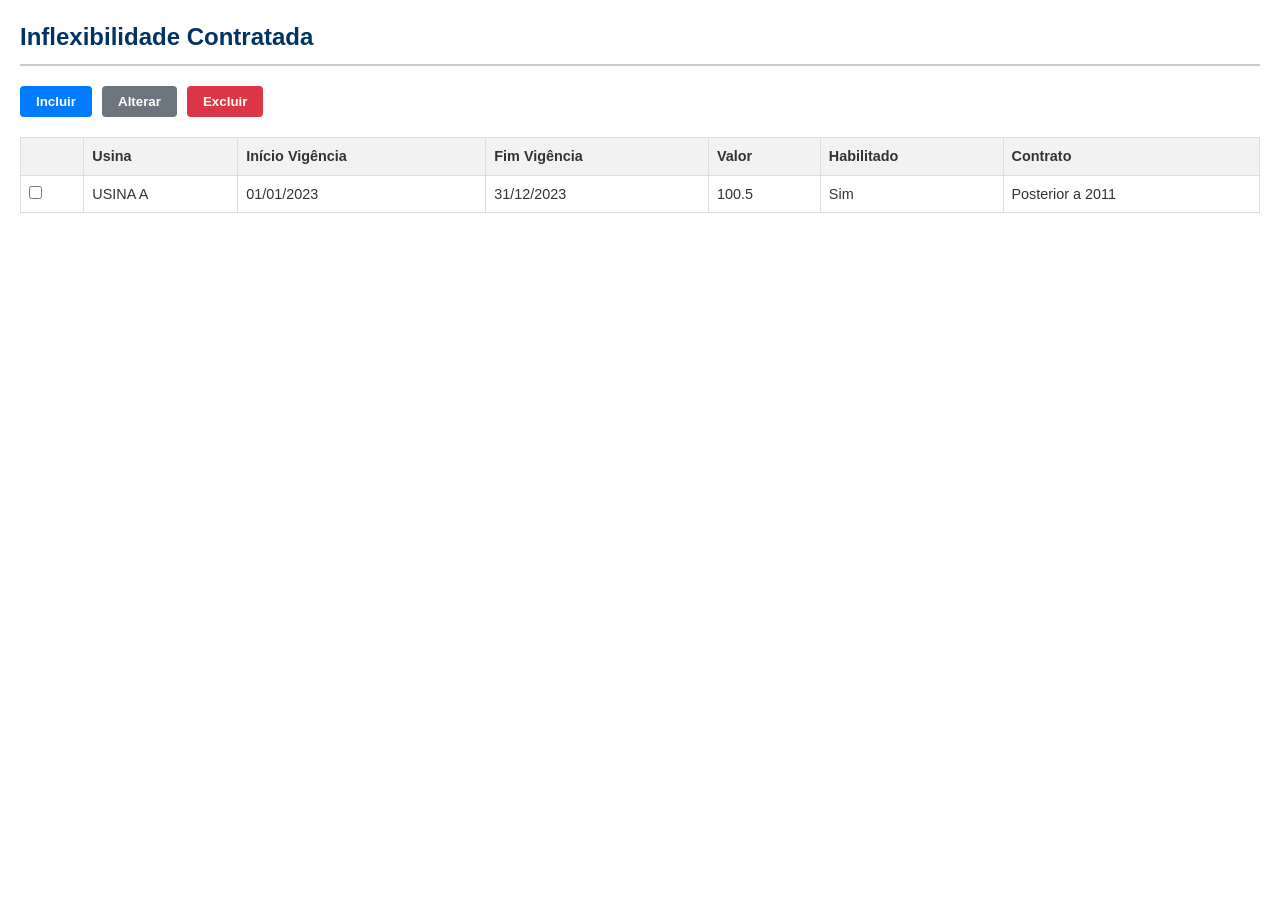
ContractedInflexibilityPage › deve abrir modal de alteração ao selecionar item e clicar em Alterar
Expected: the text "USINA A" is shown, x1=84 y1=175 x2=238 y2=213
Click the checkbox with test id "checkbox-1": (36, 192) x1=29 y1=186 x2=42 y2=199
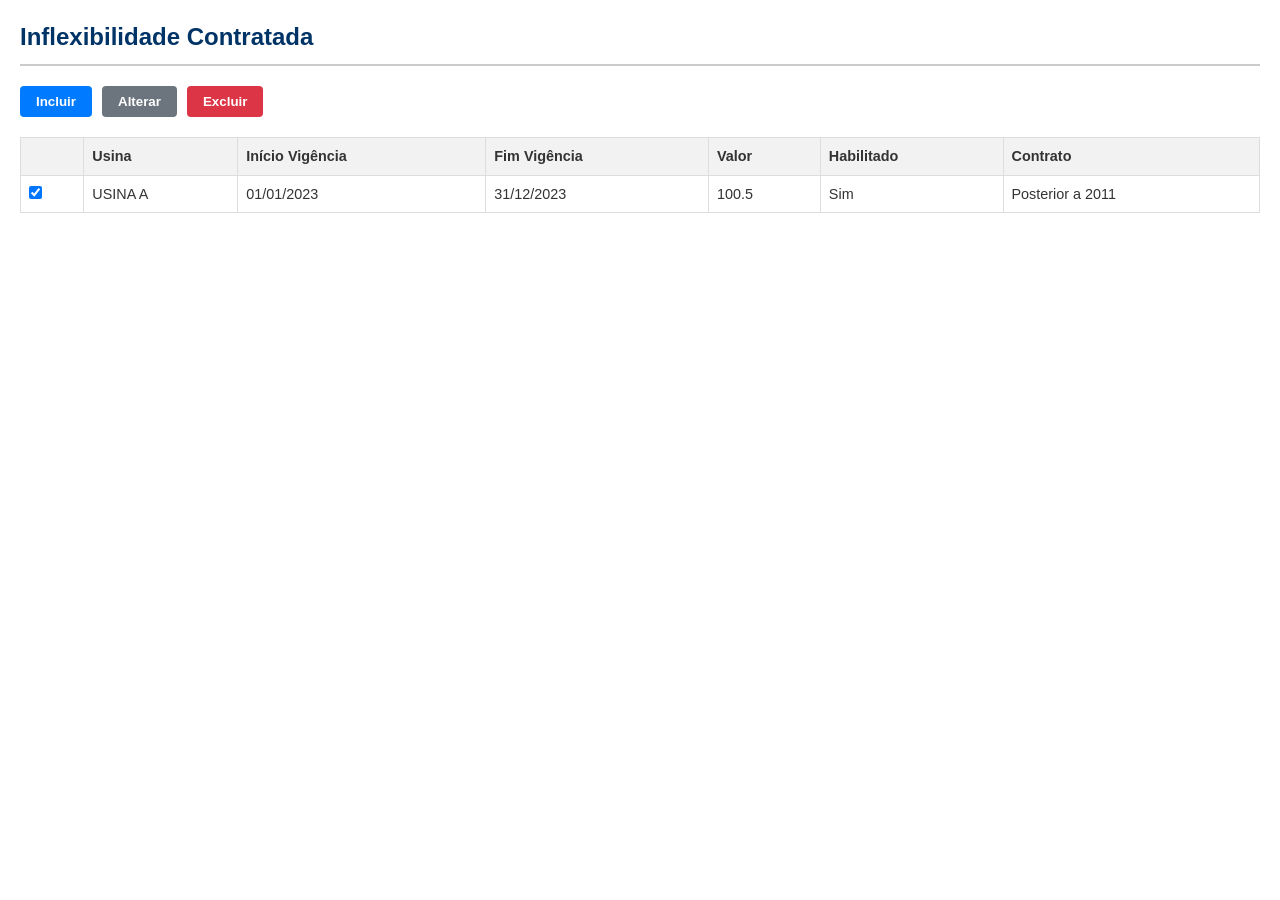
Click the button with test id "btn-alterar": (140, 102) x1=102 y1=86 x2=177 y2=117
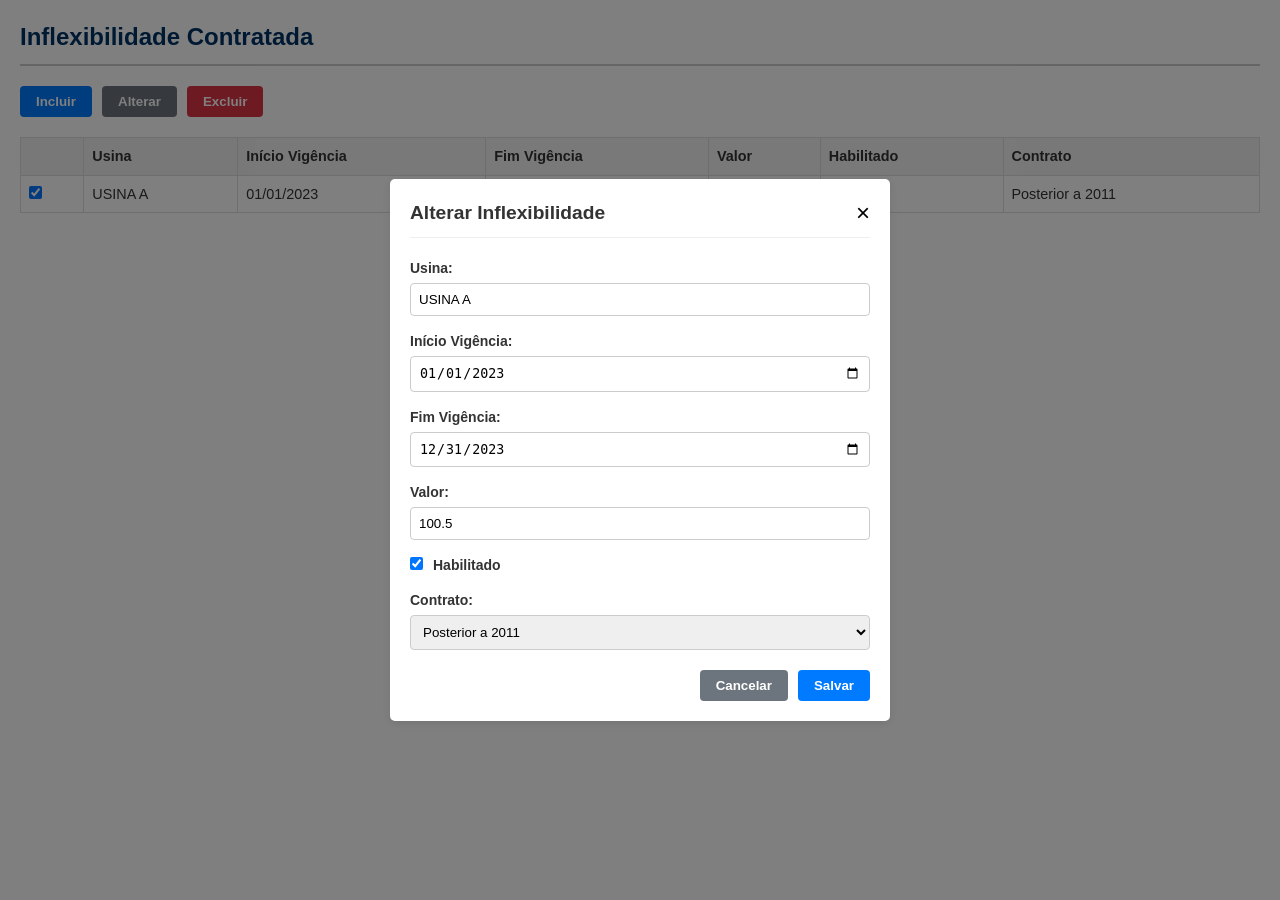
Expected: the text "Alterar Inflexibilidade" is shown, x1=410 y1=200 x2=605 y2=227
Expected: the field with test id "input-usina" holds "USINA A", x1=410 y1=283 x2=870 y2=316
